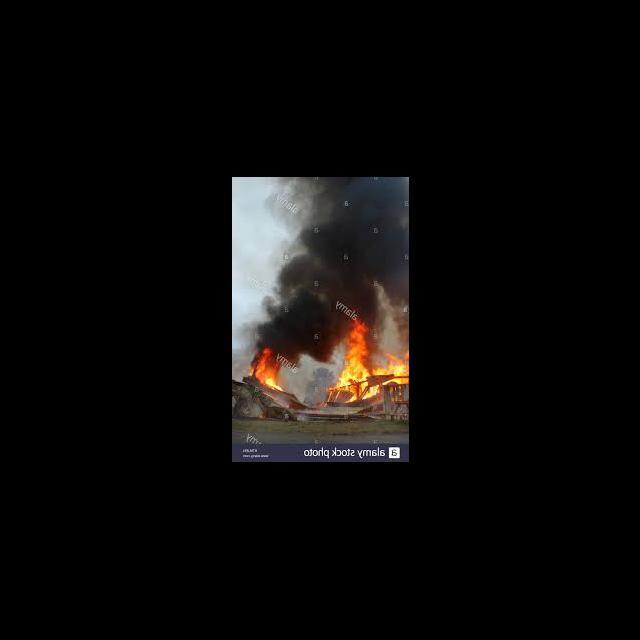Fire: (324, 314, 406, 406), (247, 350, 288, 394)
Smoke: (262, 178, 408, 313), (244, 314, 322, 350)
